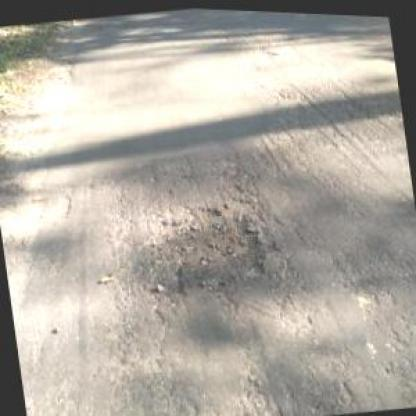pothole: (140, 191, 273, 301)
